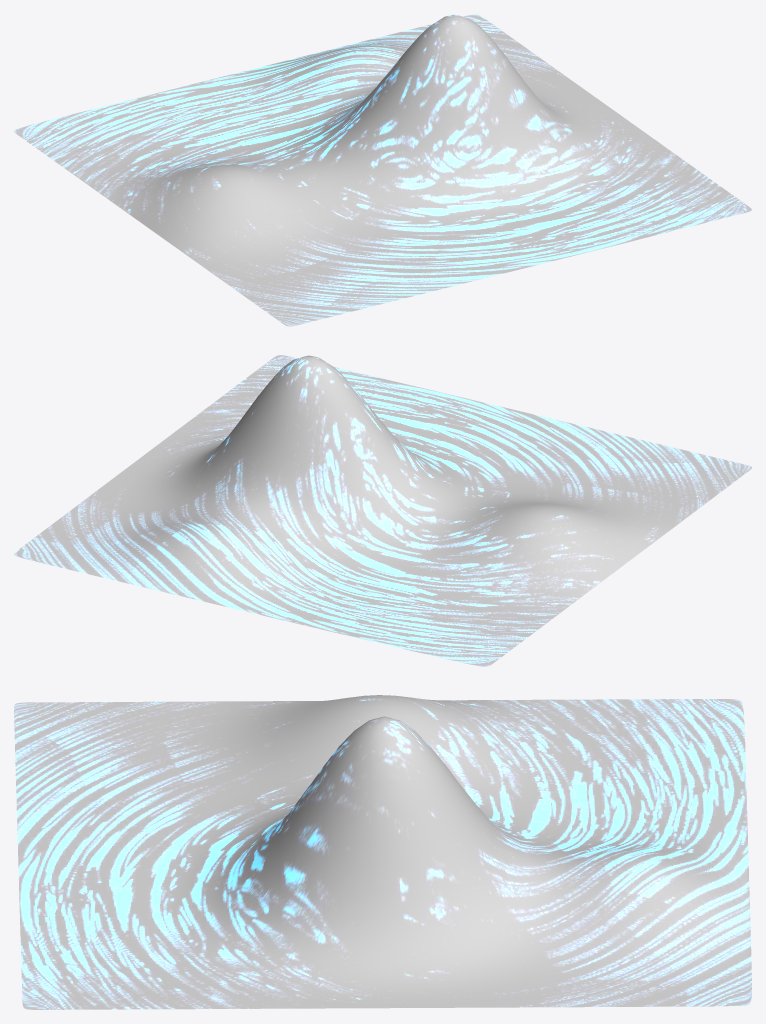
The model's file is TileThree.fbx.
3 views of the same model, one above another, from view 1: azimuth 30°, elevation 25°; view 2: azimuth 150°, elevation 25°; view 3: azimuth 270°, elevation 25° (orthographic). The views are drawn at different scales.
Visible parts, largest first — view 1: EntryGround.003; view 2: EntryGround.003; view 3: EntryGround.003.
Boxes of the visible parts, x1,y1,x2,y2 form: EntryGround.003: (14,14,751,326); EntryGround.003: (14,355,751,666); EntryGround.003: (14,695,751,1009).
Bounding box in the file's own units: 4648 × 1265 × 4660.
